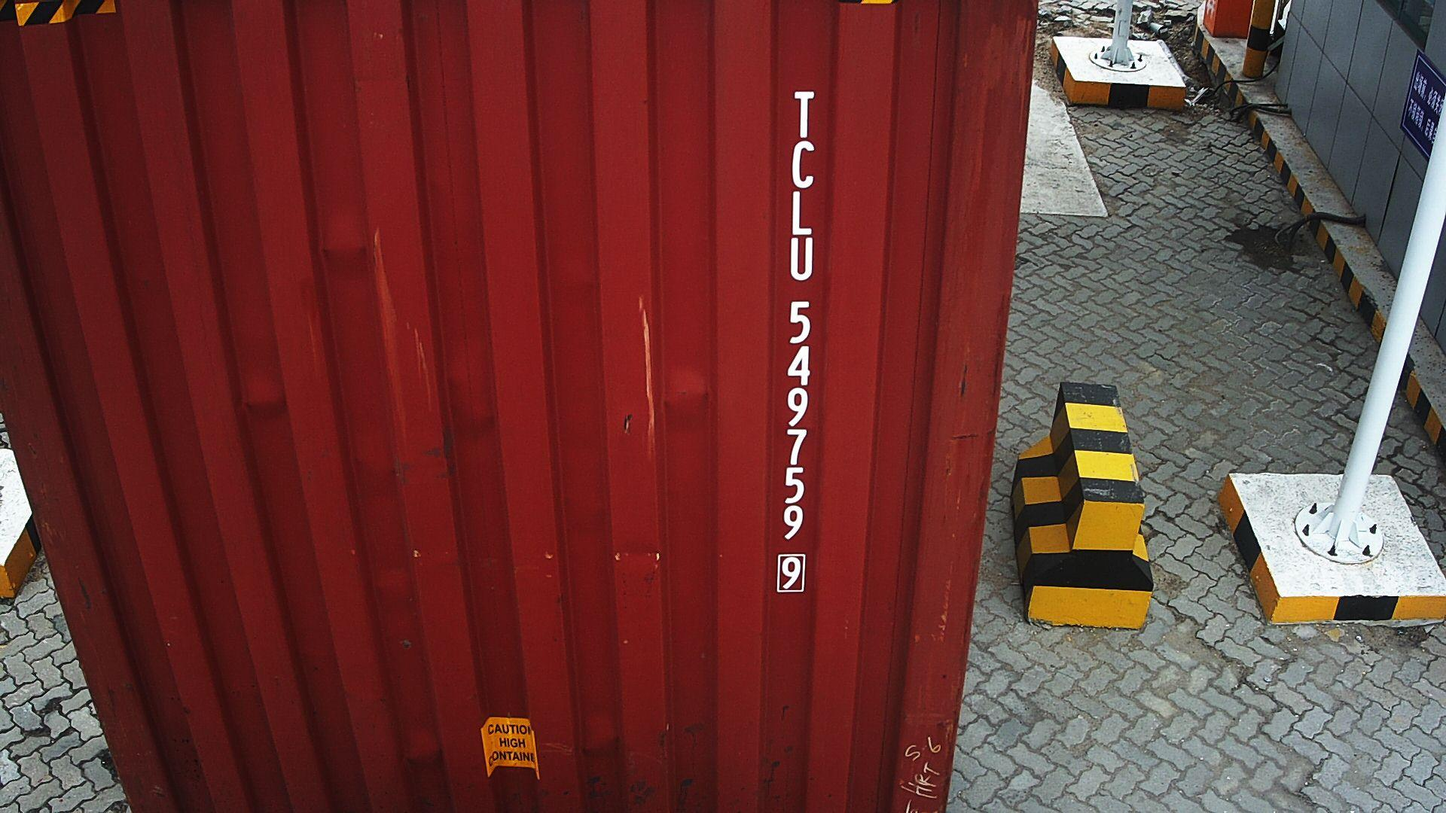container-numbers: (770, 87, 822, 601)
